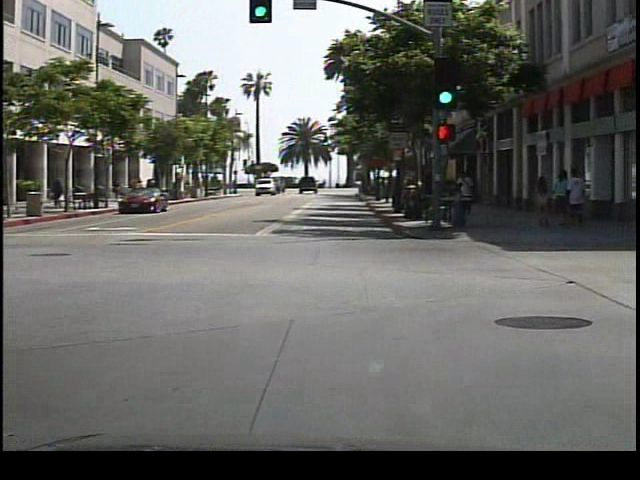person: (460, 164, 488, 219), (54, 173, 71, 211)
